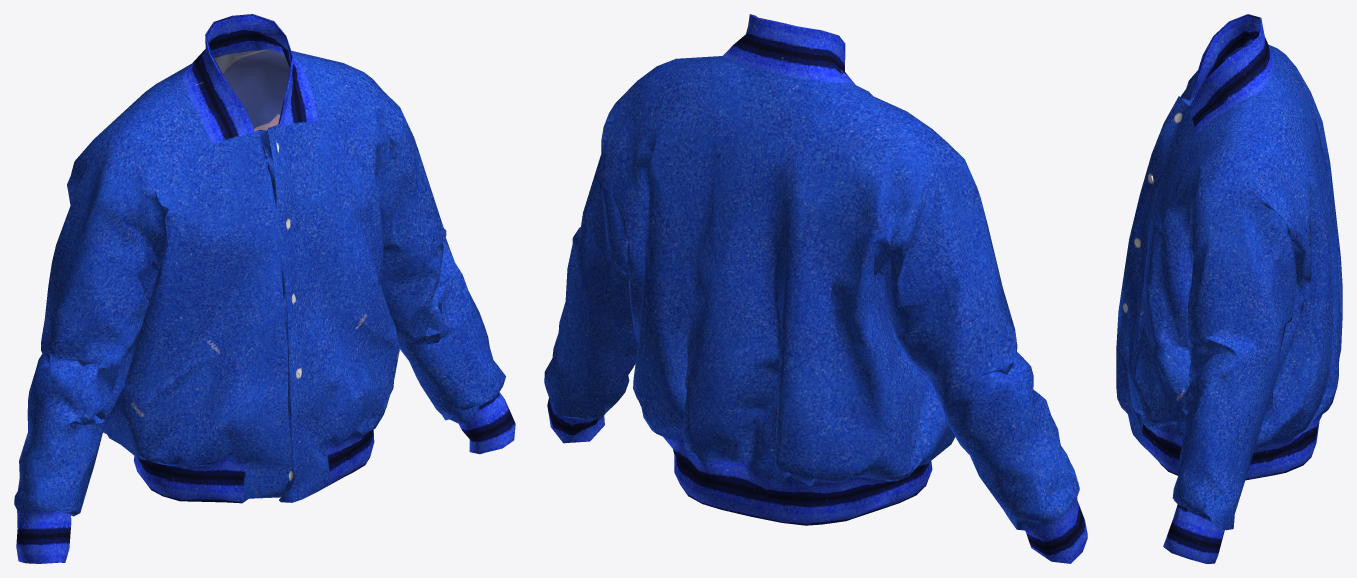
The model's file is bomber_apose.glb.
The picture shows the model from 3 angles, left to right: view 1: azimuth 30°, elevation 25°; view 2: azimuth 150°, elevation 25°; view 3: azimuth 270°, elevation 25°; orthographic projection. The views are drawn at different scales.
Parts seen in each view (by area): view 1: lod1; view 2: lod1; view 3: lod1.
Part boxes in pixels (box(x1,y1,x2,y2)): lod1: box(14, 14, 515, 563); lod1: box(544, 14, 1087, 563); lod1: box(1116, 14, 1342, 563).
Bounding box in the file's own units: 0.8334 × 0.7588 × 0.3542.
1 material, 1 textured.
